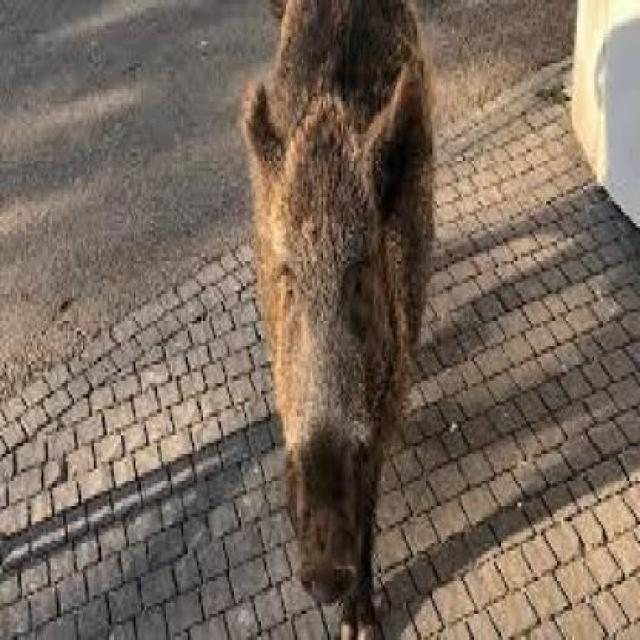Wild Boar: (238, 0, 440, 640)
